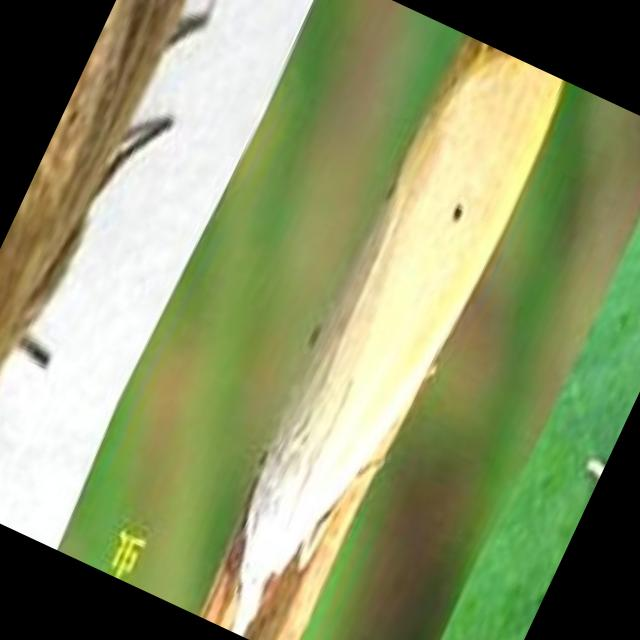stem-borer: (187, 31, 574, 640)
